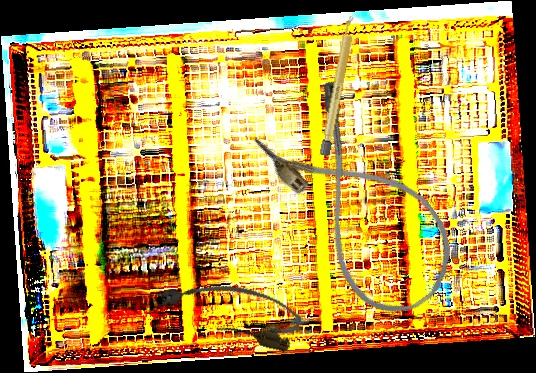Cannula: (246, 73, 475, 333), (152, 264, 306, 355)
Scalpel Handle: (319, 14, 358, 157)
